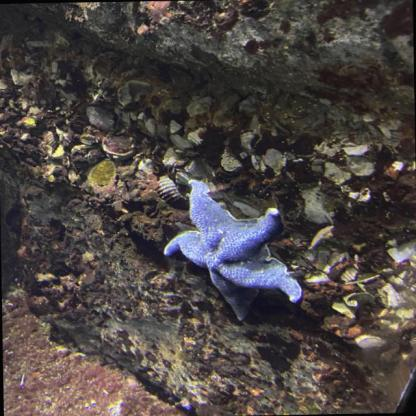starfish: (161, 177, 302, 322)
